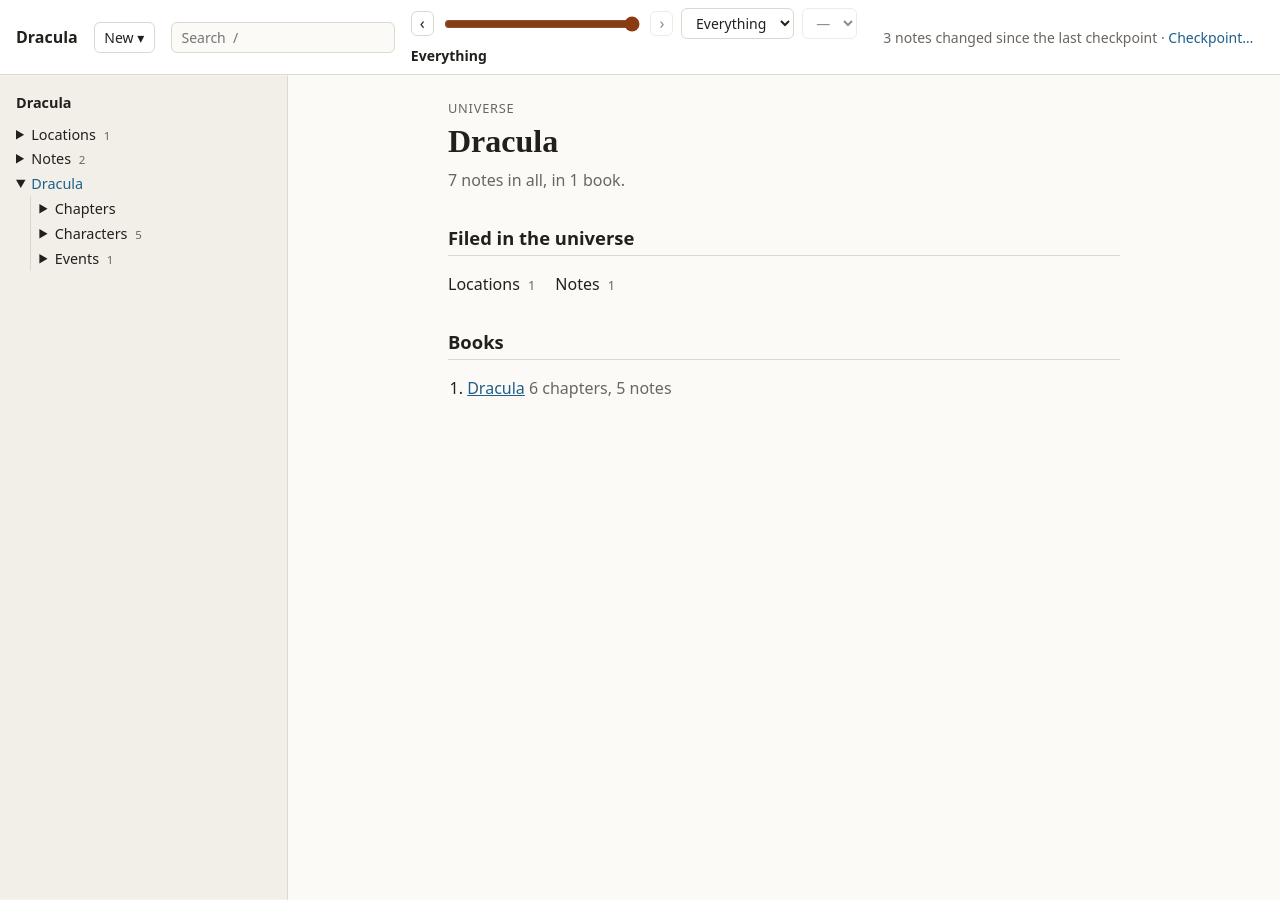
Test: SC-WEB-50: the top bar says what changed since the last checkpoint › counts the changed notes and opens a dialog that groups them for review
What coordinates should you click on to do the following:
click the button "3 notes changed since the last checkpoint · Checkpoint…"
I would click on:
 (1068, 37)
Its box is top-left (873, 22), bottom-right (1264, 53).
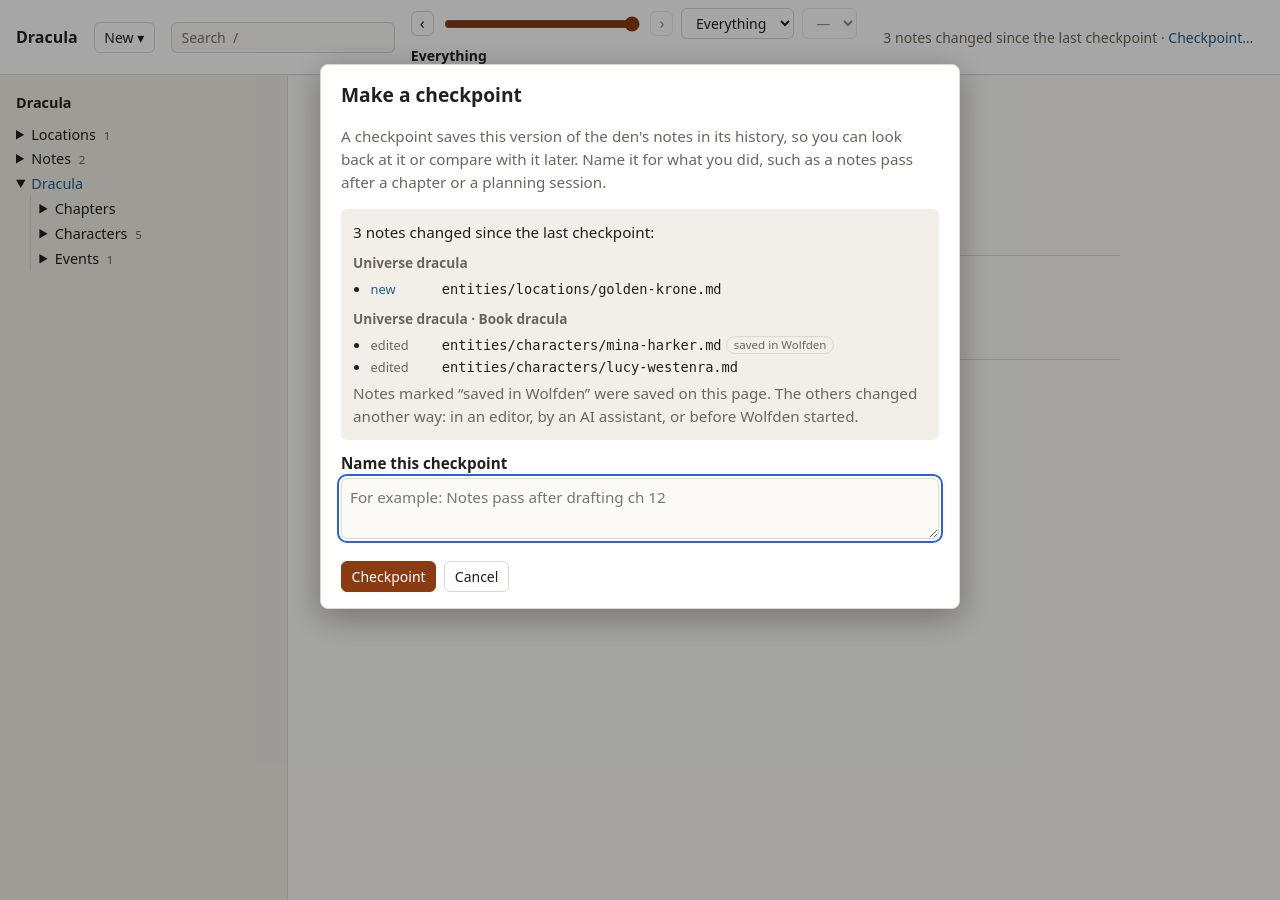
Now the headings read "Universe dracula", "Universe dracula · Book dracula", in this order, box top-left (353, 253), bottom-right (468, 272); top-left (353, 309), bottom-right (568, 328)
Now the text "entities/locations/golden-krone.md" is shown, box top-left (442, 280), bottom-right (722, 296)
Now the text "entities/characters/mina-harker.md" is shown, box top-left (442, 336), bottom-right (722, 352)
